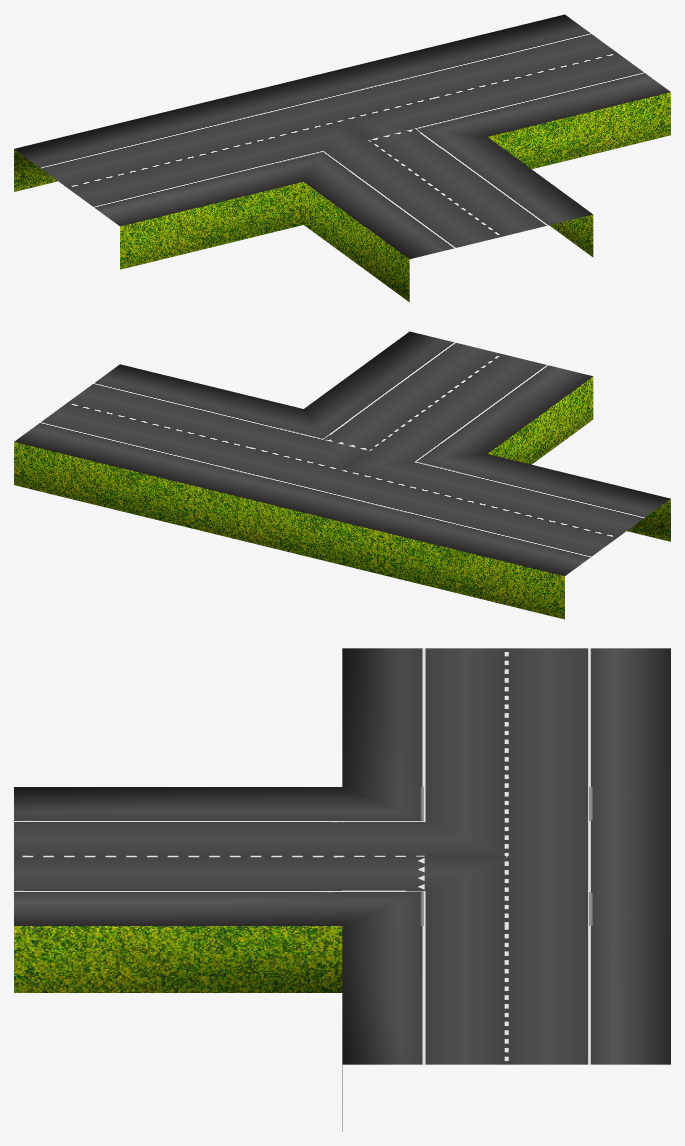
File: t-splitsing_weg_1_zonder_vangrail.fbx
The picture shows the model from 3 angles, top to bottom: view 1: azimuth 30°, elevation 25°; view 2: azimuth 150°, elevation 25°; view 3: azimuth 270°, elevation 25°; orthographic projection. The views are drawn at different scales.
Visible parts, largest first — view 1: kruispunt_weg_1_zonder_vangrail; view 2: kruispunt_weg_1_zonder_vangrail; view 3: kruispunt_weg_1_zonder_vangrail.
Boxes of the visible parts, box(x1,y1,x2,y2) form: kruispunt_weg_1_zonder_vangrail: box(14, 14, 670, 301); kruispunt_weg_1_zonder_vangrail: box(14, 331, 670, 619); kruispunt_weg_1_zonder_vangrail: box(14, 648, 670, 1131).
Bounding box in the file's own units: 3000 × 225 × 2000.
